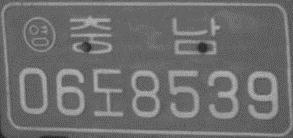0: (18, 66, 48, 115)
3: (207, 69, 240, 120)
5: (168, 69, 200, 119)
6: (55, 67, 85, 116)
8: (129, 69, 160, 119)
9: (246, 70, 279, 120)
도: (92, 68, 124, 117)
영: (21, 15, 56, 53)
충남_D: (68, 13, 221, 57)
